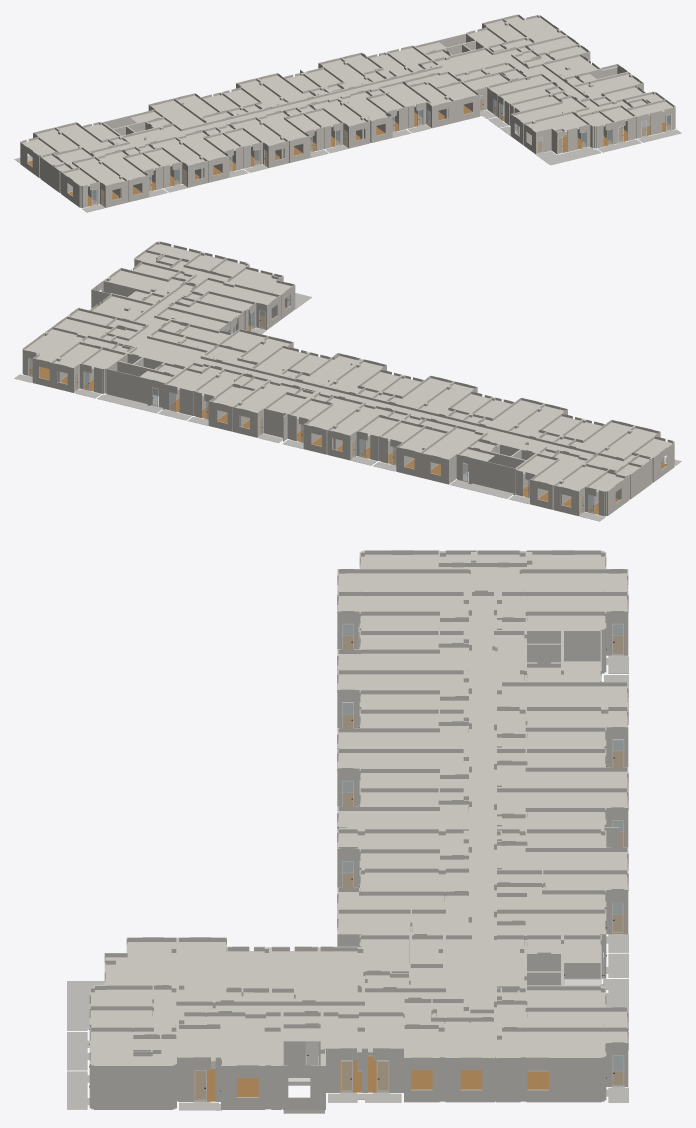
3 views of the same model, one above another, from view 1: azimuth 30°, elevation 25°; view 2: azimuth 150°, elevation 25°; view 3: azimuth 270°, elevation 25° (orthographic). The views are drawn at different scales.
Visible parts, largest first — view 1: in_L06_walls__int_wall, in_L06_ceiling__int_wall, in_L06_u93_walls__int_wall, in_L06_u104_walls__int_wall, in_L06_u104_ceiling__int_wall, in_L06_u93_ceiling__int_wall, in_L06_u96_walls__int_wall, in_L06_u96_ceiling__int_wall, in_L06_u90_ceiling__int_wall, in_L06_u85_ceiling__int_wall, in_L06_u91_ceiling__int_wall, in_L06_u98_walls__int_wall (+33 smaller); view 2: in_L06_walls__int_wall, in_L06_ceiling__int_wall, in_L06_u104_walls__int_wall, in_L06_u104_ceiling__int_wall, in_L06_u93_ceiling__int_wall, in_L06_u90_walls__int_wall, in_L06_u96_ceiling__int_wall, in_L06_u90_ceiling__int_wall, in_L06_u85_ceiling__int_wall, in_L06_u85_walls__int_wall, in_L06_u91_ceiling__int_wall, in_L06_u93_walls__int_wall (+29 smaller); view 3: in_L06_walls__int_wall, in_L06_ceiling__int_wall, in_L06_u93_ceiling__int_wall, in_L06_u104_ceiling__int_wall, in_L06_u96_ceiling__int_wall, in_L06_u90_walls__int_wall, in_L06_u90_ceiling__int_wall, in_L06_u91_ceiling__int_wall, in_L06_u85_ceiling__int_wall, in_L06_u93_walls__int_wall, in_L06_u91_walls__int_wall, in_L06_u95-a_ceiling__int_wall (+38 smaller).
Part boxes in pixels (x1,y1,x2,y2): in_L06_walls__int_wall: [55, 33, 675, 207]; in_L06_ceiling__int_wall: [92, 42, 617, 155]; in_L06_u93_walls__int_wall: [523, 91, 675, 154]; in_L06_u104_walls__int_wall: [20, 127, 127, 207]; in_L06_u104_ceiling__int_wall: [23, 129, 124, 186]; in_L06_u93_ceiling__int_wall: [526, 94, 672, 132]; in_L06_u96_walls__int_wall: [378, 69, 488, 128]; in_L06_u96_ceiling__int_wall: [382, 70, 485, 106]; in_L06_u90_ceiling__int_wall: [469, 16, 563, 50]; in_L06_u85_ceiling__int_wall: [151, 95, 244, 127]; in_L06_u91_ceiling__int_wall: [517, 37, 597, 77]; in_L06_u98_walls__int_wall: [298, 97, 369, 148]; in_L06_walls__int_wall: [52, 259, 635, 515]; in_L06_ceiling__int_wall: [113, 284, 593, 461]; in_L06_u104_walls__int_wall: [554, 425, 674, 516]; in_L06_u104_ceiling__int_wall: [557, 428, 671, 491]; in_L06_u93_ceiling__int_wall: [137, 244, 291, 294]; in_L06_u90_walls__int_wall: [22, 327, 133, 393]; in_L06_u96_ceiling__int_wall: [182, 331, 305, 374]; in_L06_u90_ceiling__int_wall: [25, 329, 128, 368]; in_L06_u85_ceiling__int_wall: [383, 417, 480, 459]; in_L06_u85_walls__int_wall: [380, 414, 484, 484]; in_L06_u91_ceiling__int_wall: [56, 296, 150, 339]; in_L06_u93_walls__int_wall: [134, 241, 295, 318]; in_L06_walls__int_wall: [91, 551, 628, 1109]; in_L06_ceiling__int_wall: [215, 596, 600, 1065]; in_L06_u93_ceiling__int_wall: [90, 942, 212, 1065]; in_L06_u104_ceiling__int_wall: [338, 554, 627, 590]; in_L06_u96_ceiling__int_wall: [338, 872, 468, 962]; in_L06_u90_walls__int_wall: [497, 986, 628, 1102]; in_L06_u90_ceiling__int_wall: [497, 990, 627, 1057]; in_L06_u91_ceiling__int_wall: [323, 1003, 493, 1057]; in_L06_u85_ceiling__int_wall: [497, 686, 627, 747]; in_L06_u93_walls__int_wall: [89, 937, 180, 1109]; in_L06_u91_walls__int_wall: [328, 999, 497, 1102]; in_L06_u95-a_ceiling__int_wall: [320, 939, 442, 1000].
Bounding box in the file's own units: 82.8 × 3.6 × 38.1.
